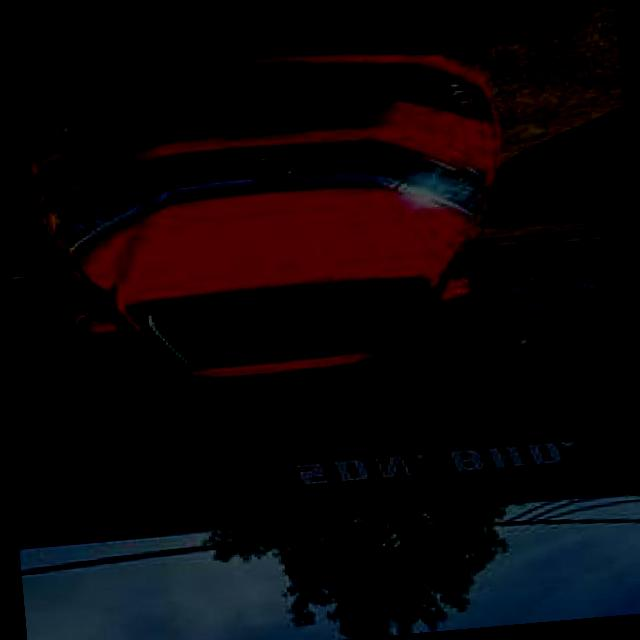PeroduaBezza: (18, 30, 520, 397)
